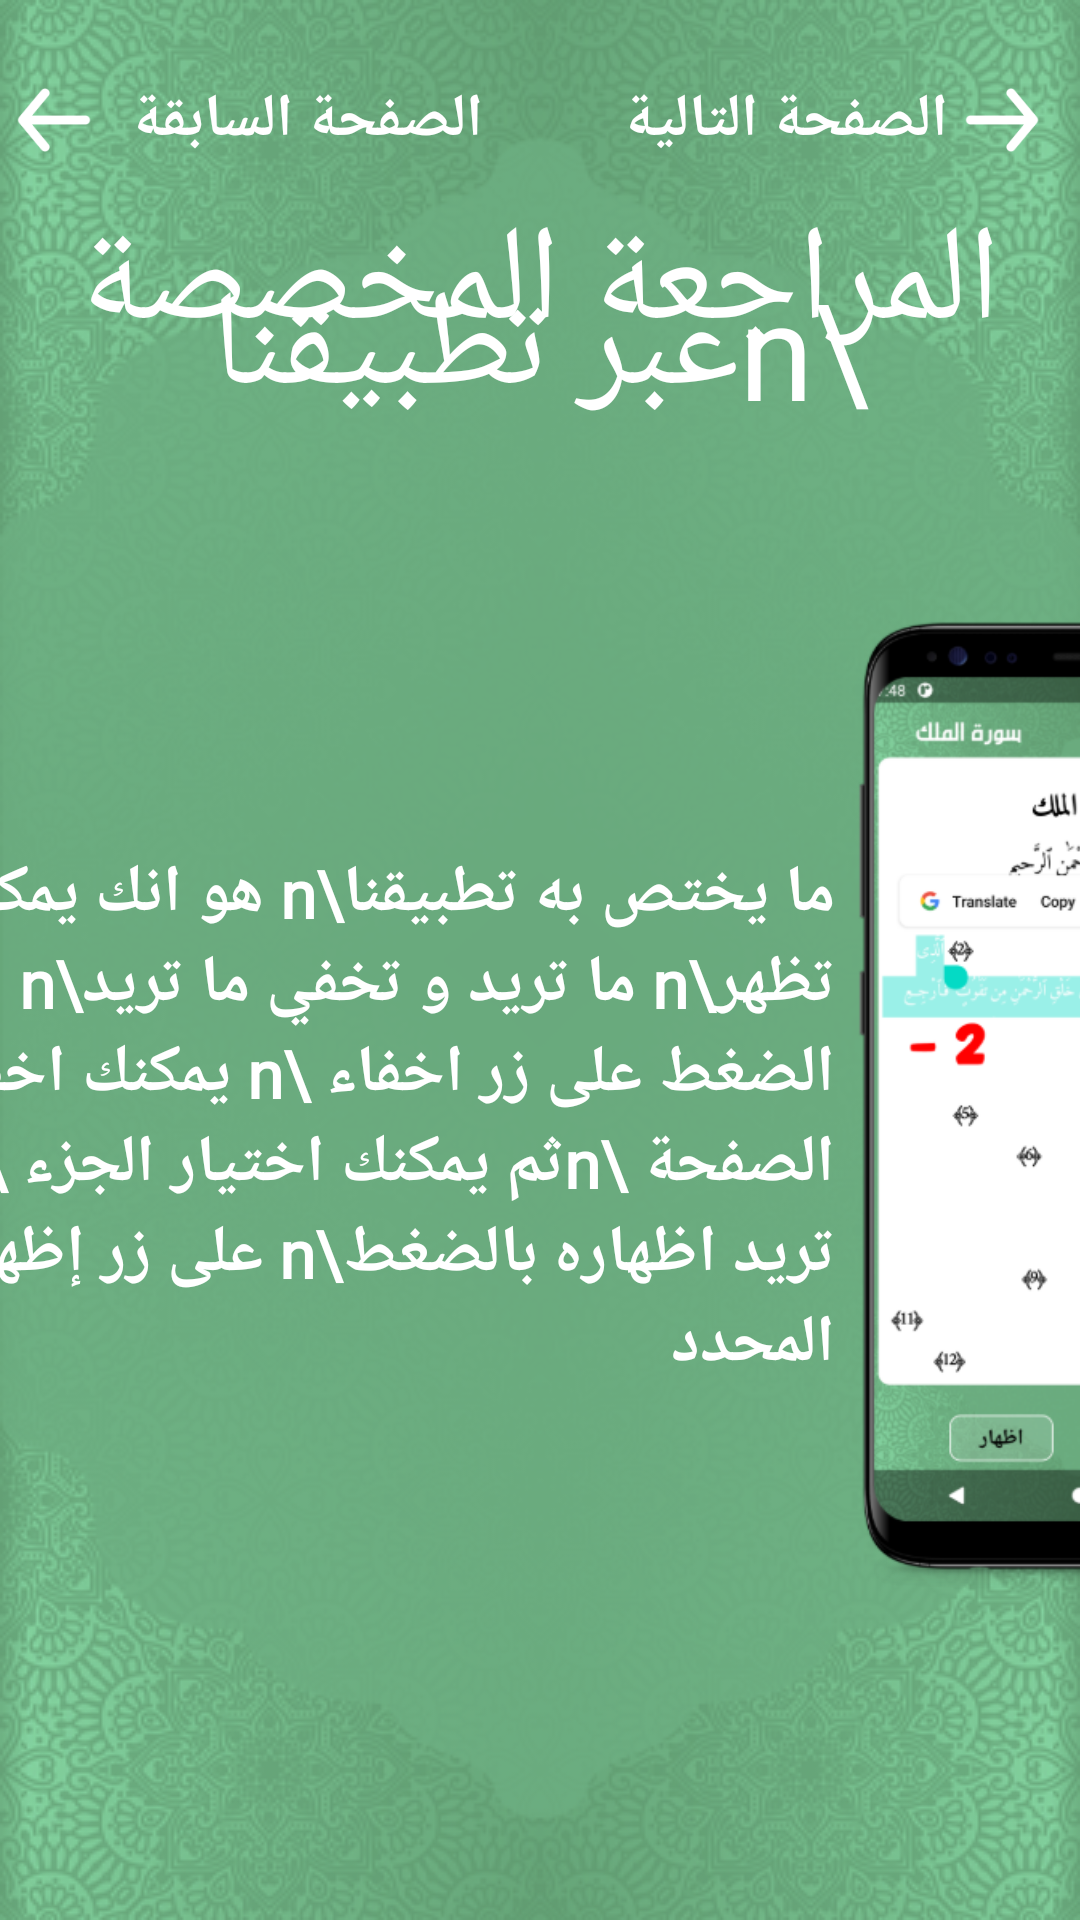

Screen size 1080 x 1920. Icon name, then its box in pixels as (x1, y1, x2, y2):
arrow back: (0, 66, 90, 161)
